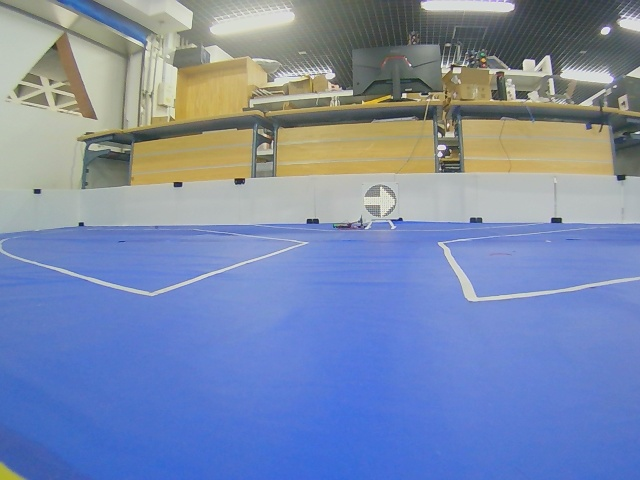right_yellow: (364, 184, 397, 218)
